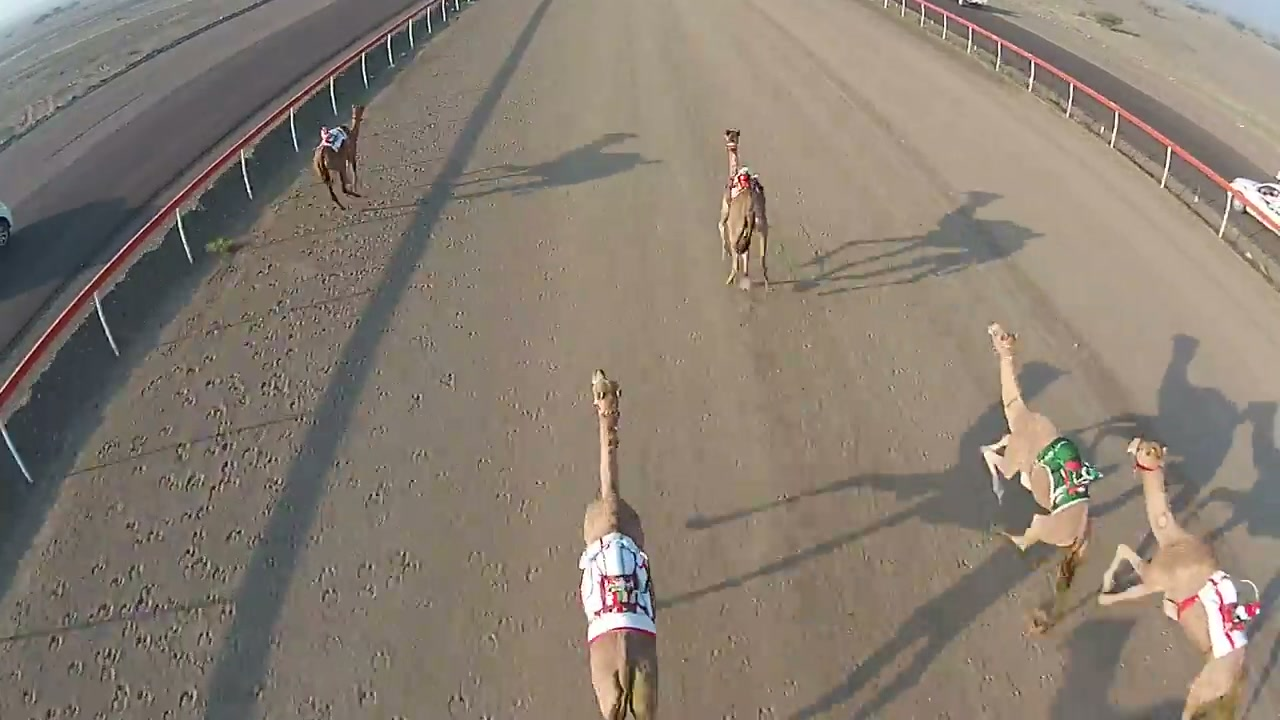animal_foot_print: (17, 195, 377, 719), (297, 198, 580, 715)
